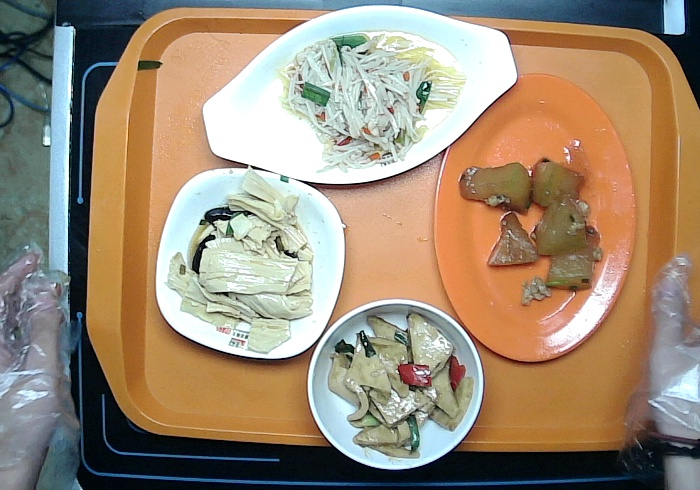NLDX-Bai_Se_Xiao_Fang_Die: (151, 165, 349, 362)
NLDX-Fan_Wan: (304, 296, 486, 475)
NLDX-Ju_Se_Pan: (431, 71, 641, 366)
NLDX-Yu_Pan: (197, 2, 519, 186)
